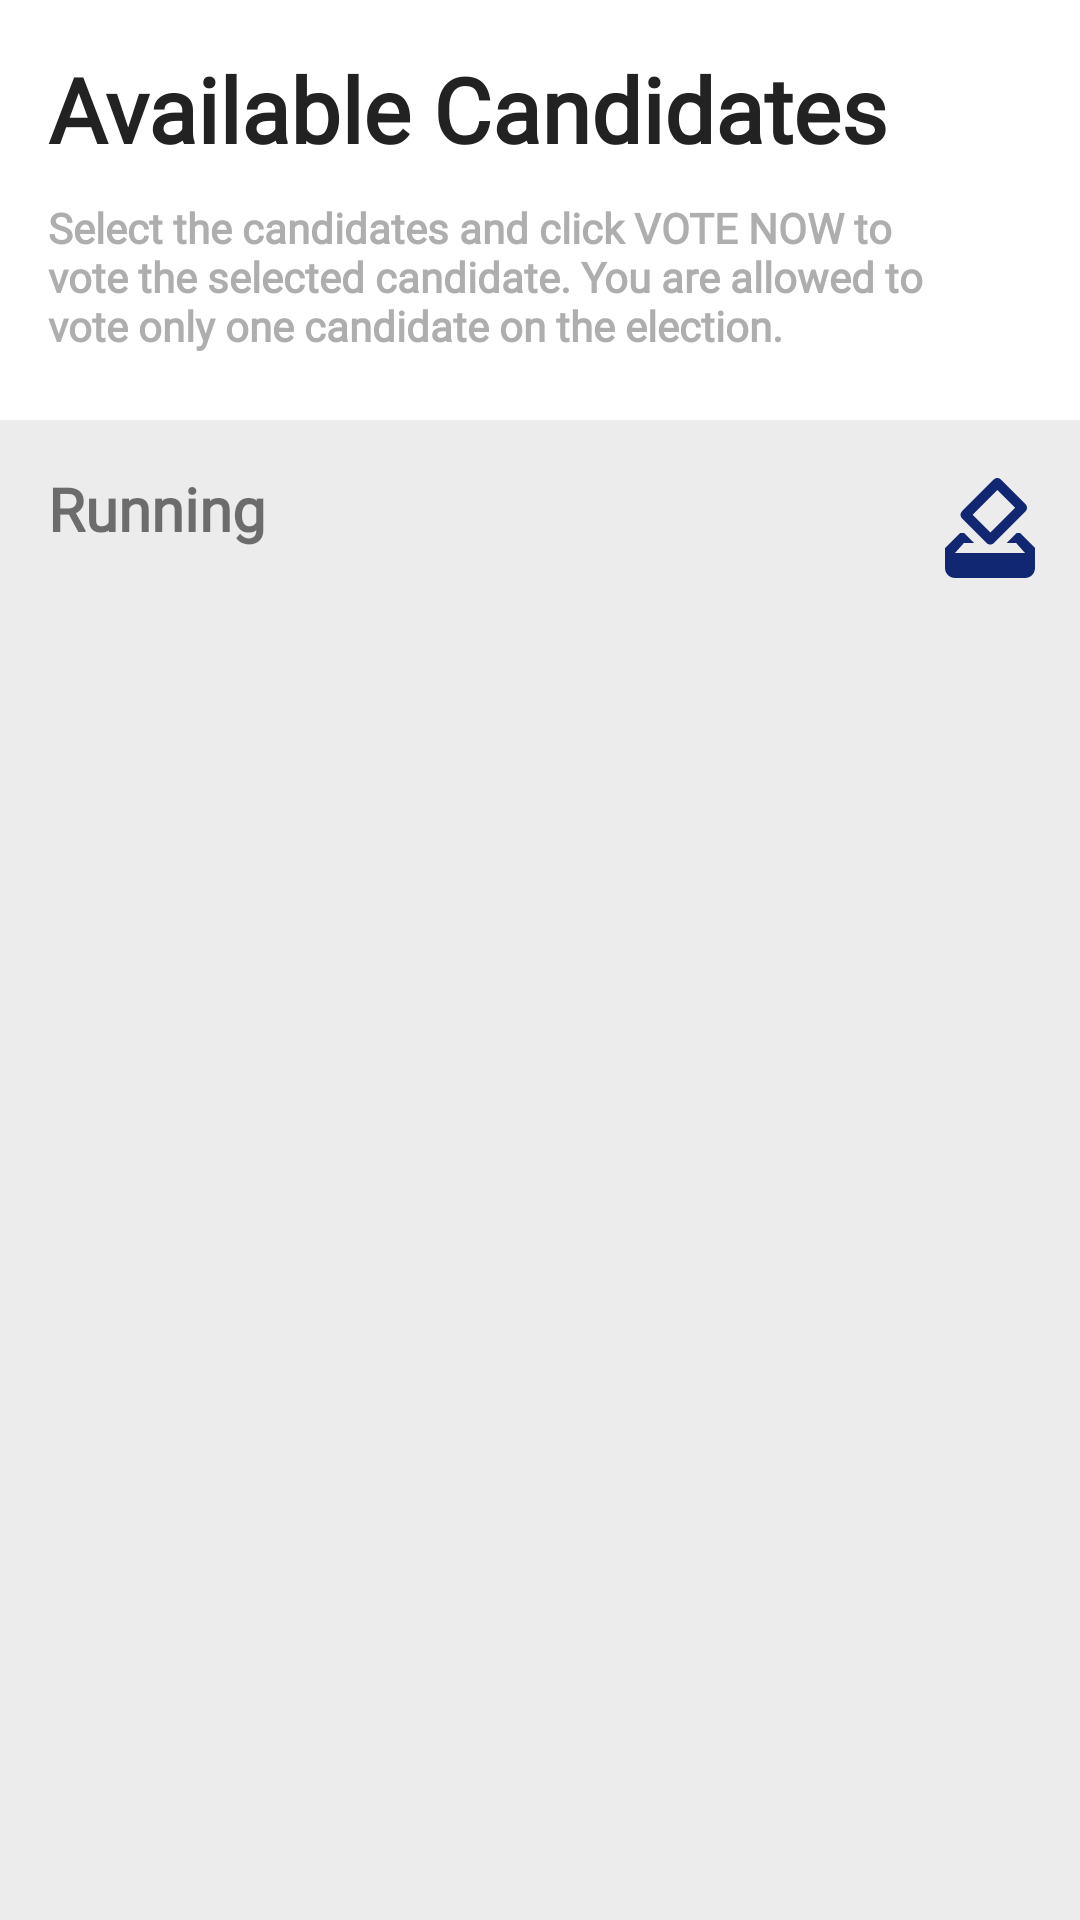

Named icons in this screenshot (1080*1920) and their bounding boxes, (x1, y1, x2, y2):
vote running: (945, 478, 1035, 578)
